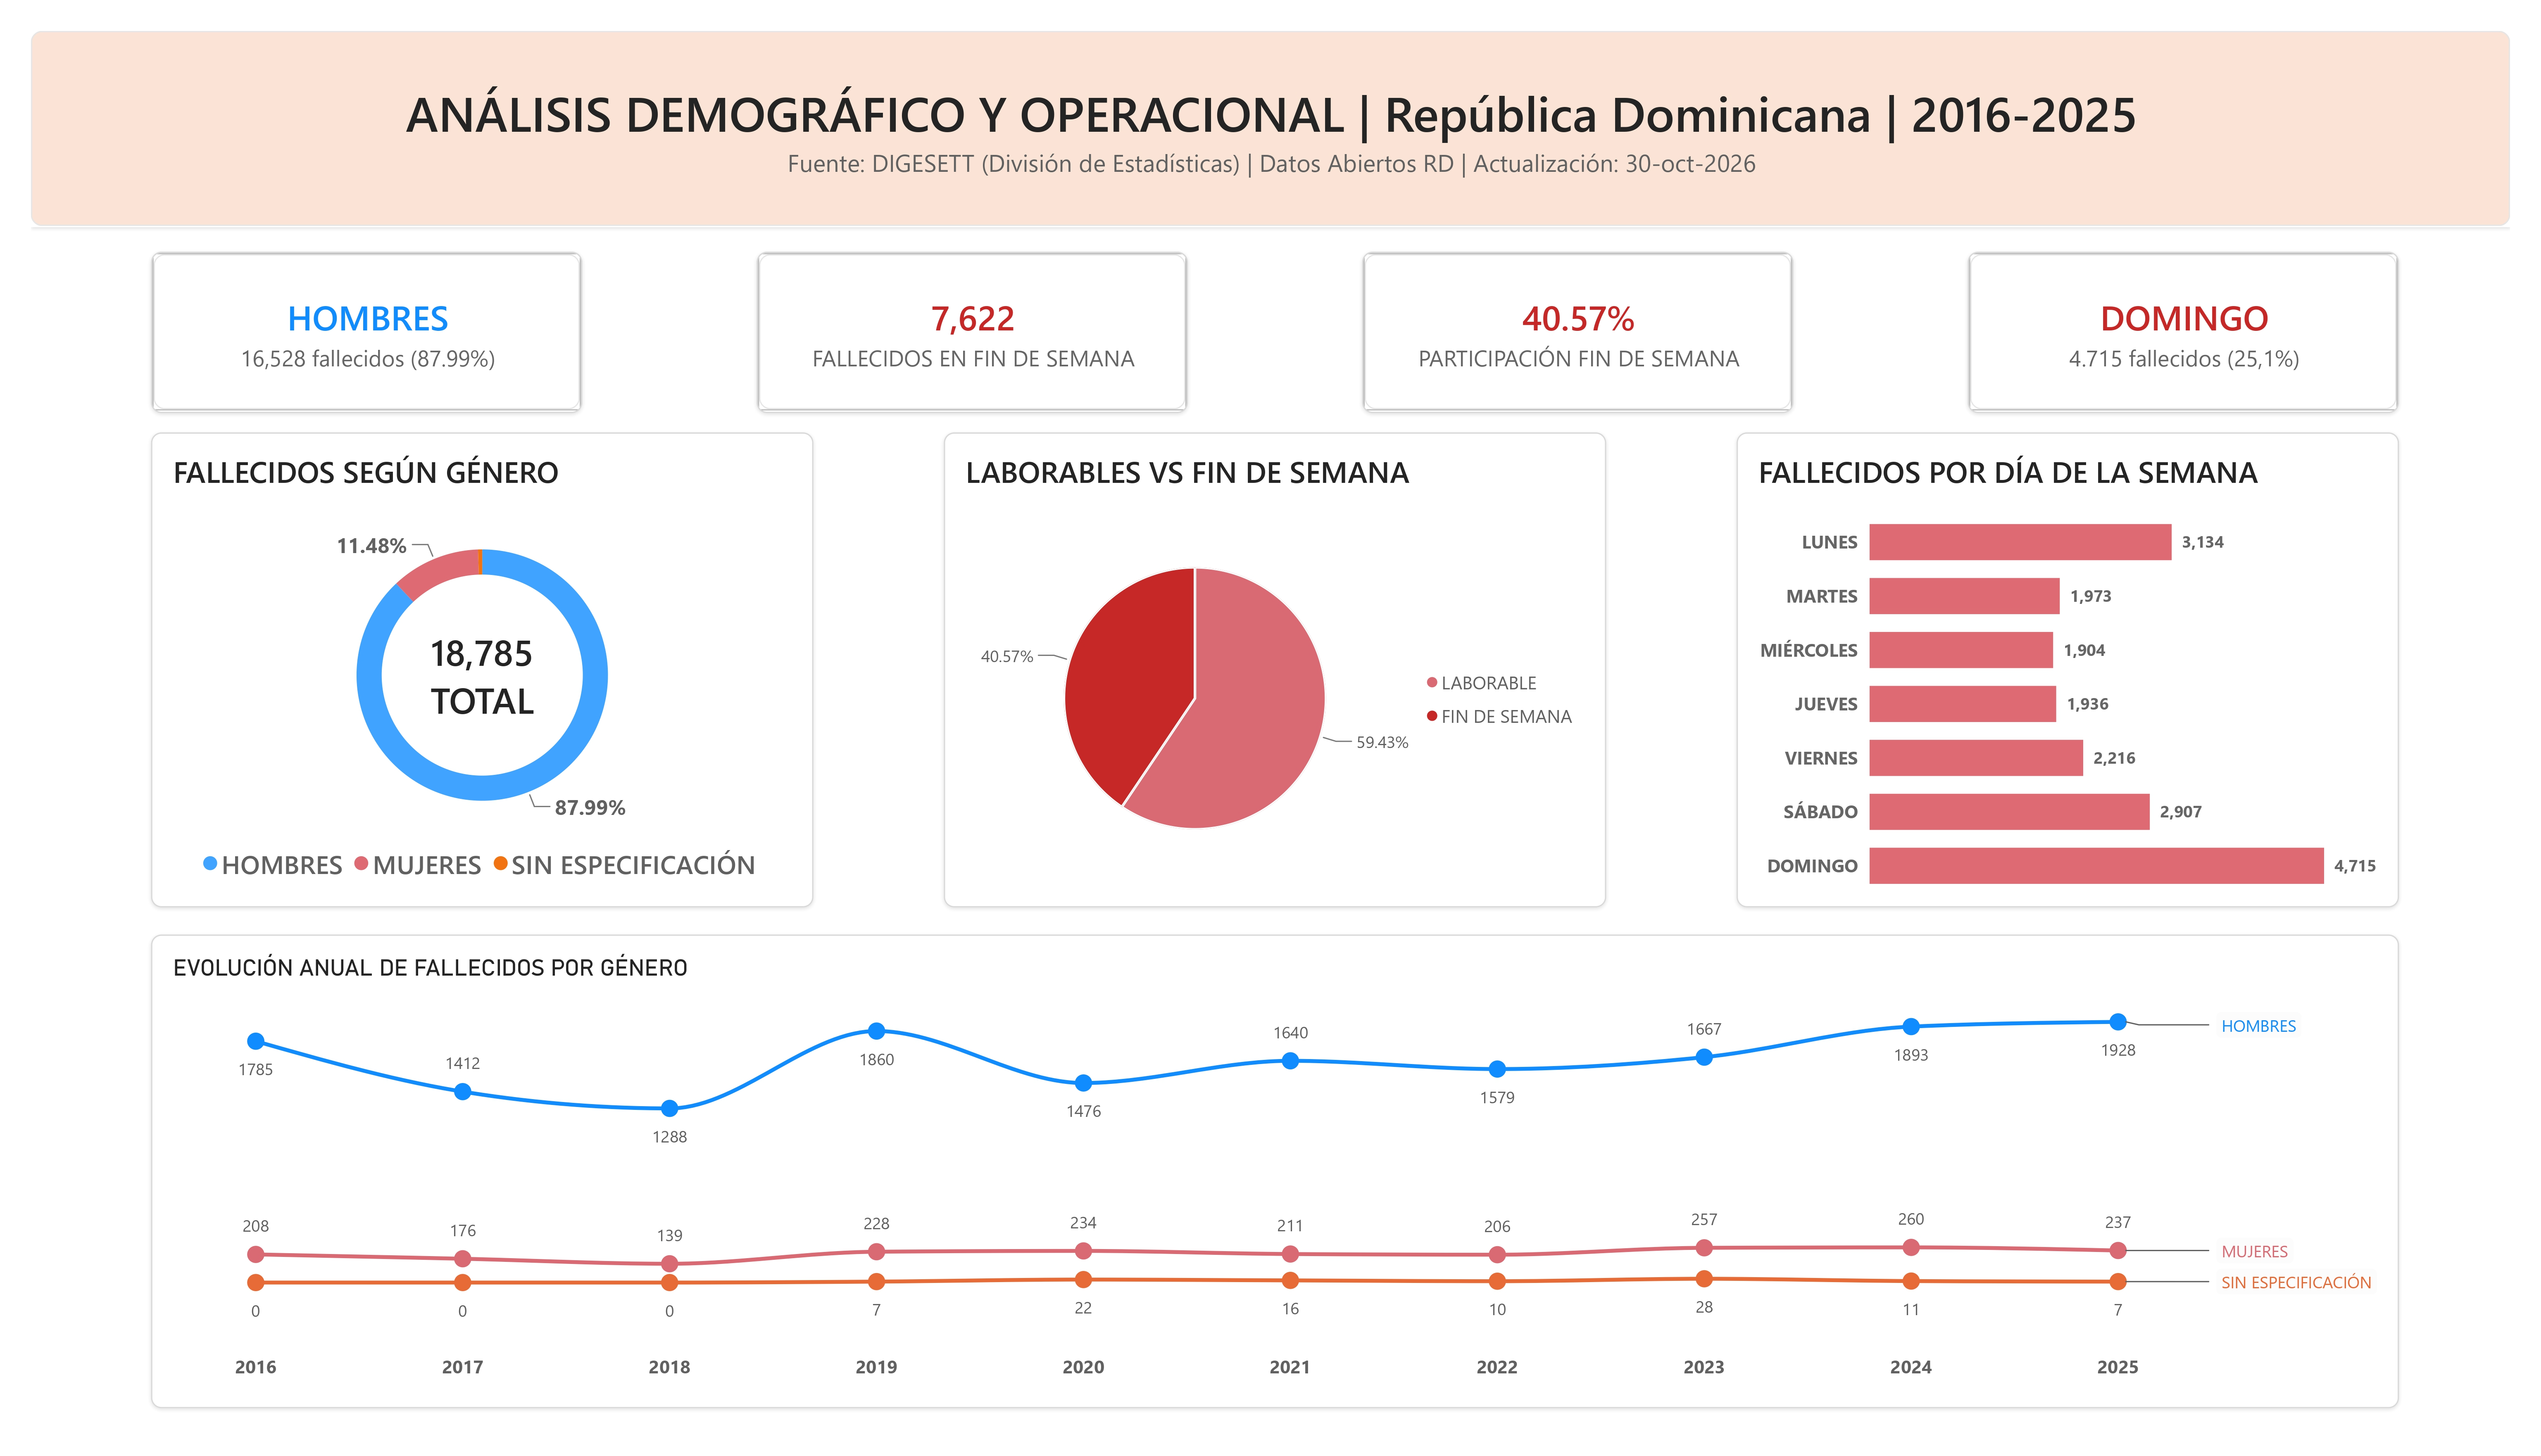

What the dashboard file says about the page in this screenshot:
{"tool":"powerbi","page":{"name":"Análisis temporal","canvas":[1920,1080],"ordinal":1},"visuals":[{"type":"cardVisual","fields":{"Data":["Dia de la semana 2016-2025.Titulo AT"]},"box":[0,0,1920.6,151.6],"z":0},{"type":"barChart","title":"FALLECIDOS POR DÍA DE LA SEMANA","fields":{"Category":["Dia de la semana 2016-2025.DIA DE SEMANA"],"Y":["Dia de la semana 2016-2025.Total fallecidos Por día"]},"box":[1321.4,311.4,512.9,367.1],"z":1000},{"type":"donutChart","title":"FALLECIDOS SEGÚN GÉNERO","fields":{"Category":["Genero 2016-2025.GENERO"],"Y":["Genero 2016-2025.Fallecidos x genero"]},"box":[92.9,311.4,512.9,367.1],"z":2000},{"type":"pieChart","title":"LABORABLES VS FIN DE SEMANA","fields":{"Category":["Dia de la semana 2016-2025.Tipo Día"],"Y":["Dia de la semana 2016-2025.Total fallecidos Por día"]},"box":[707.1,311.4,512.9,367.1],"z":3000},{"type":"cardVisual","title":"GÉNERO MÁS AFECATADO","fields":{"Data":["Min(Genero 2016-2025.GENERO)"]},"box":[92.9,171.4,334.3,124.3],"z":4000},{"type":"cardVisual","title":"PROMEDIO DIARO","fields":{"Data":["Dia de la semana 2016-2025.% Promedio por día"]},"box":[1031,171.4,334.3,124.3],"z":5000},{"type":"cardVisual","title":"FALLECIDOS FIN DE SEMANA","fields":{"Data":["Dia de la semana 2016-2025.Fallecidos Fin de Semana"]},"box":[561.9,171.4,334.3,124.3],"z":6000},{"type":"cardVisual","title":"DÍA MÁS CRÍTICO","fields":{"Data":["Dia de la semana 2016-2025.Día Más Crítico"]},"box":[1500,171.4,334.3,124.3],"z":7000},{"type":"lineChart","title":"EVOLUCIÓN ANUAL DE FALLECIDOS POR GÉNERO","fields":{"Category":["Genero 2016-2025.AÑO"],"Series":["Genero 2016-2025.GENERO"],"Y":["Sum(Genero 2016-2025.FALLECIDOS)"]},"box":[92.9,700,1741.4,367.1],"z":8000}]}

Visuals, with their boxes on the page's 1920x1080 design canvas (x1, y1, x2, y2). These are canvas units, not pixel positions in the 2541x1456 screenshot, which may show the page scaled, cropped or inside an application window:
cardVisual - Dia de la semana 2016-2025.Titulo AT: [0, 0, 1921, 152]
"FALLECIDOS POR DÍA DE LA SEMANA" barChart: [1321, 311, 1834, 678]
"FALLECIDOS SEGÚN GÉNERO" donutChart: [93, 311, 606, 678]
"LABORABLES VS FIN DE SEMANA" pieChart: [707, 311, 1220, 678]
"GÉNERO MÁS AFECATADO" cardVisual: [93, 171, 427, 296]
"PROMEDIO DIARO" cardVisual: [1031, 171, 1365, 296]
"FALLECIDOS FIN DE SEMANA" cardVisual: [562, 171, 896, 296]
"DÍA MÁS CRÍTICO" cardVisual: [1500, 171, 1834, 296]
"EVOLUCIÓN ANUAL DE FALLECIDOS POR GÉNERO" lineChart: [93, 700, 1834, 1067]
